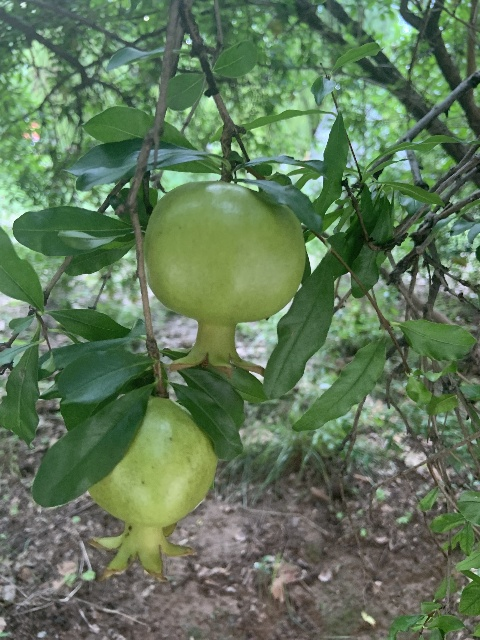mid-growth: (144, 180, 306, 380), (86, 396, 216, 583)
